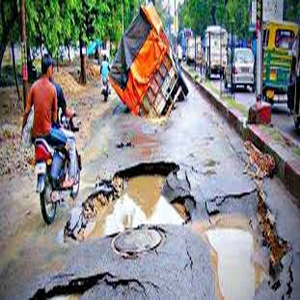pothole: (65, 159, 197, 247), (197, 195, 283, 300), (28, 276, 145, 300)
